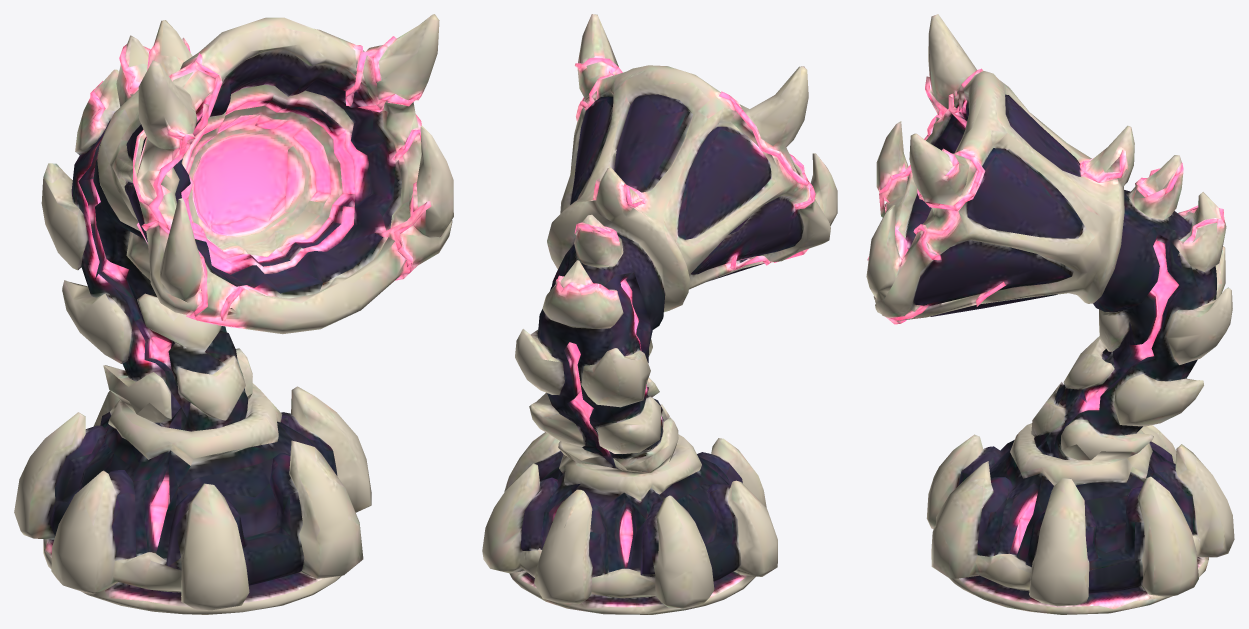
File: zeynep-6-tier-3.glb
3 views of the same model, side by side, from view 1: azimuth 30°, elevation 25°; view 2: azimuth 150°, elevation 25°; view 3: azimuth 270°, elevation 25° (orthographic). The views are drawn at different scales.
Parts seen in each view (by area): view 1: moving-assembly, fixed-platform; view 2: moving-assembly, fixed-platform; view 3: moving-assembly, fixed-platform.
Part boxes in pixels (x1,y1,x2,y2): moving-assembly: (41, 14, 453, 420); fixed-platform: (14, 383, 371, 614); moving-assembly: (515, 14, 837, 472); fixed-platform: (482, 432, 777, 614); moving-assembly: (866, 14, 1232, 459); fixed-platform: (926, 423, 1234, 614).
Bounding box in the file's own units: 0.6635 × 1.16 × 0.784.
1 material, 1 textured.
